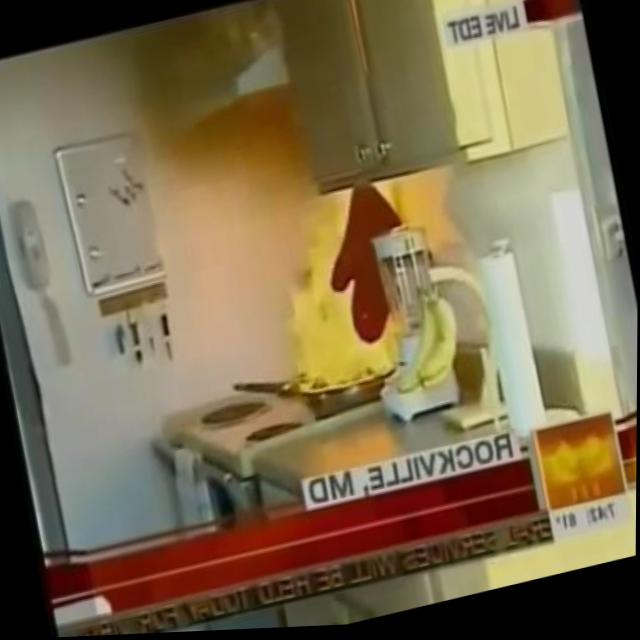fire: (260, 174, 451, 401)
